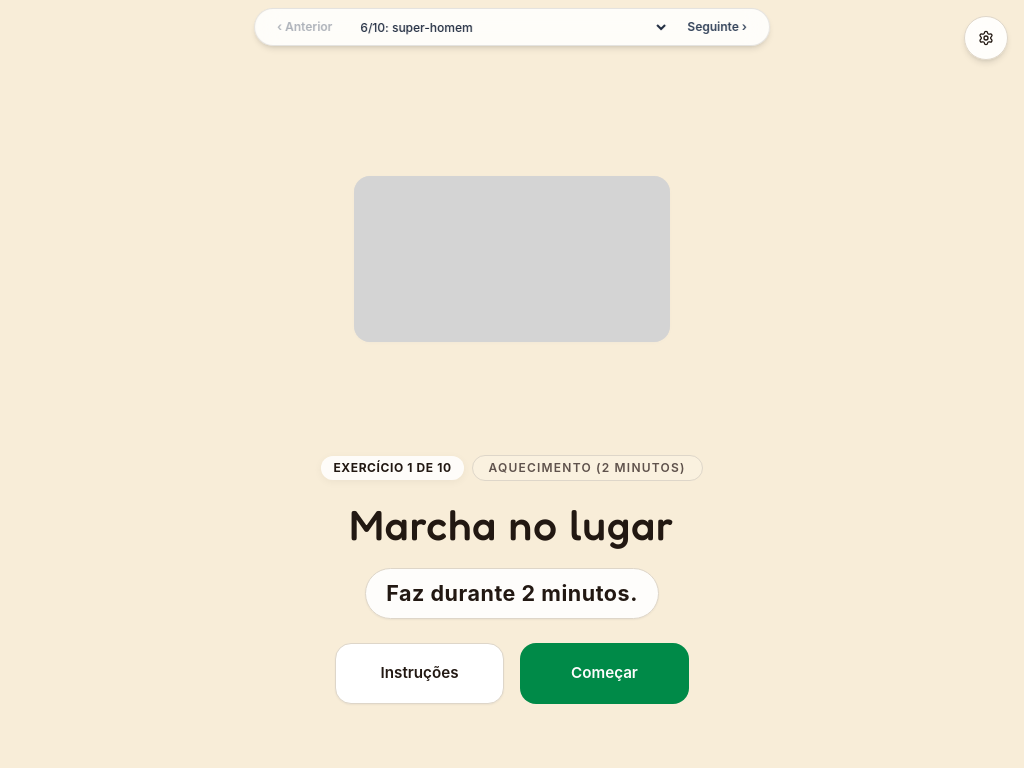
Test: exercise programme › alternates both Bird Dog poses during the repetition block
Select "6/10: super-homem" in the dropdown named "selecionar exercício". click: coordinates (510, 27)
box: [350,16,669,38]
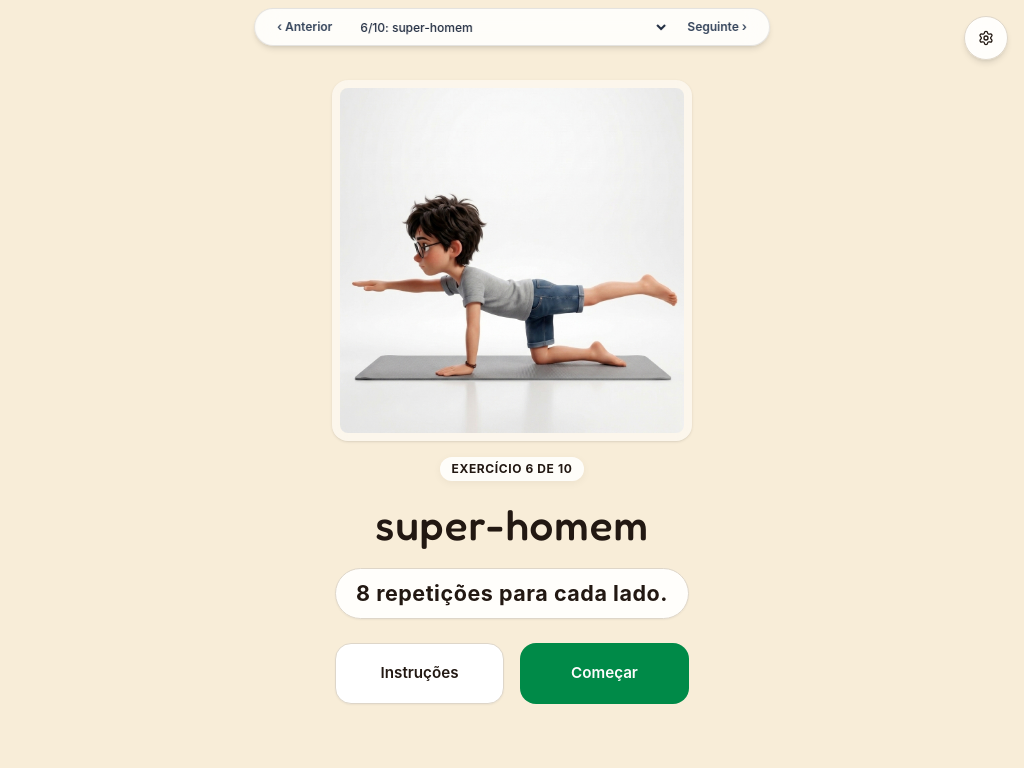
expect the picture is shown: met, box [332,80,692,441]
Click the button "Começar". click: coordinates (604, 673)
box: [520,643,689,704]
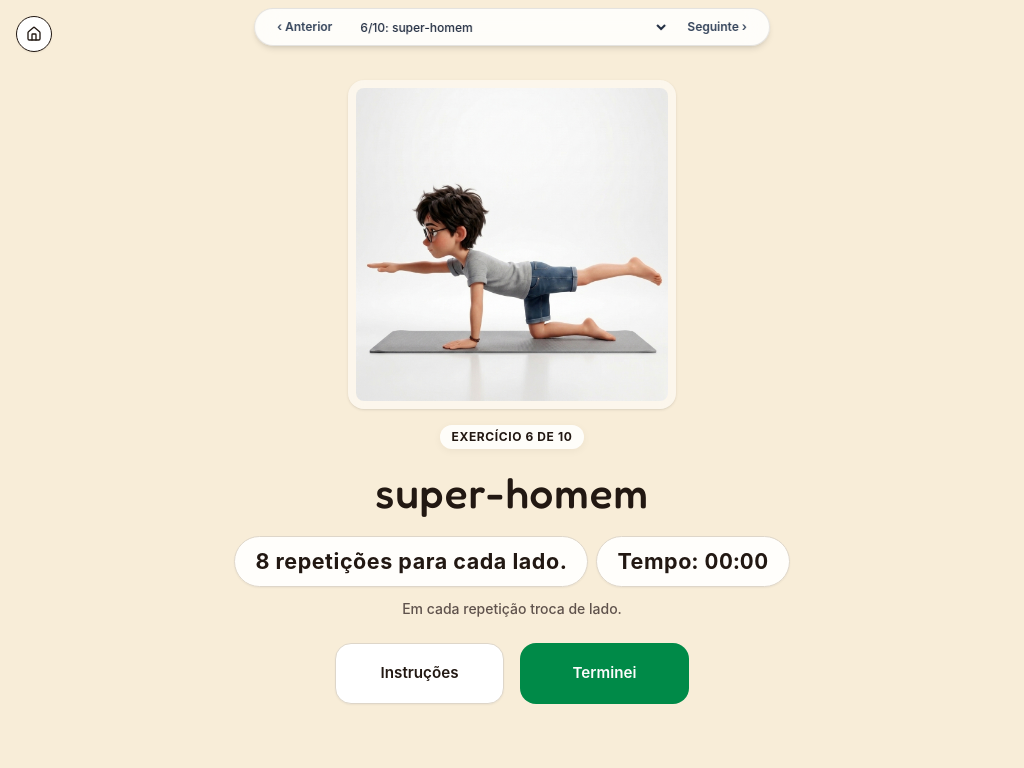
expect the picture is shown: met, box [348,80,676,409]
expect the text "Em cada repetição troca de lado." is shown: met, box [402,599,622,619]
